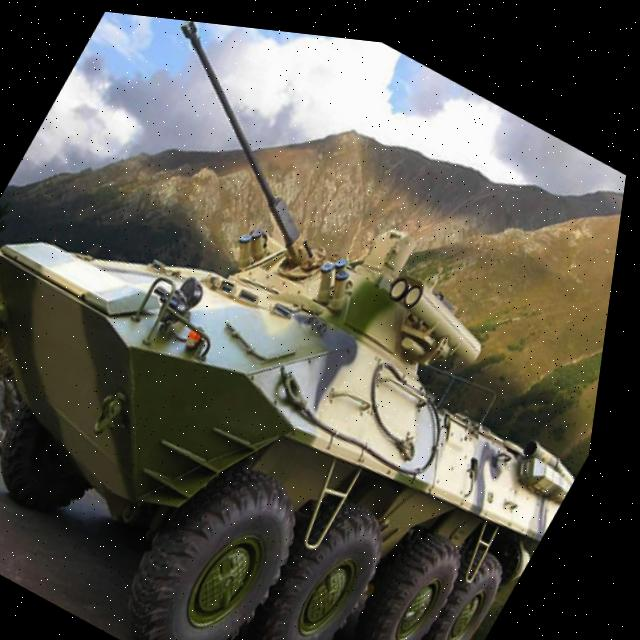MIL_APC: (0, 76, 632, 640)
